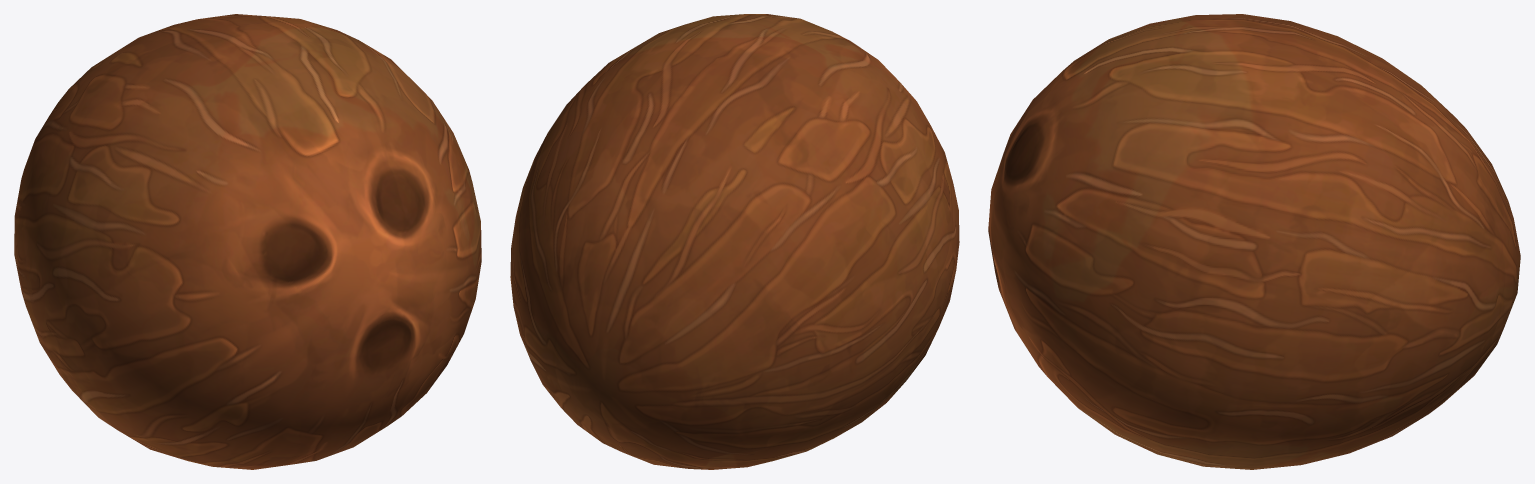
The model's file is coconut_fruit.fbx.
3 views of the same model, side by side, from view 1: azimuth 30°, elevation 25°; view 2: azimuth 150°, elevation 25°; view 3: azimuth 270°, elevation 25° (orthographic). The views are drawn at different scales.
Parts seen in each view (by area): view 1: coconut_fruit; view 2: coconut_fruit; view 3: coconut_fruit.
Boxes of the visible parts, x1=… form: coconut_fruit: x1=14, y1=14, x2=481, y2=469; coconut_fruit: x1=510, y1=14, x2=959, y2=469; coconut_fruit: x1=988, y1=14, x2=1520, y2=469.
Bounding box in the file's own units: 0.1716 × 0.1709 × 0.1996.
Materials: 1 (1 with a texture image).
